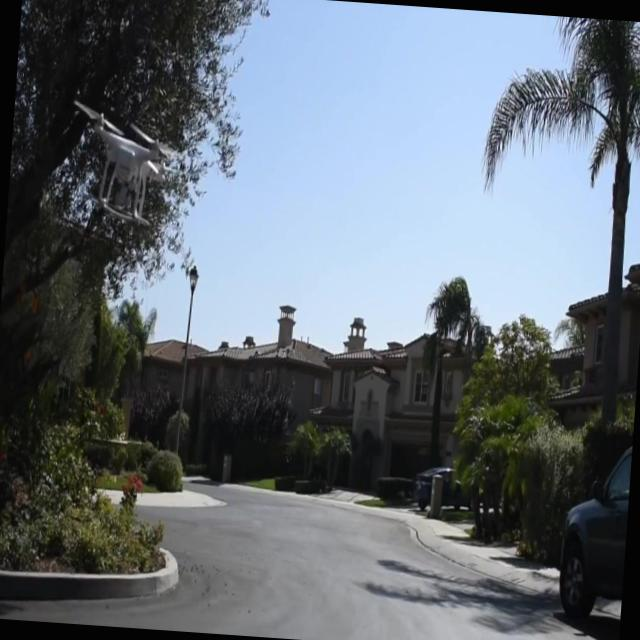drone: (65, 97, 183, 232)
